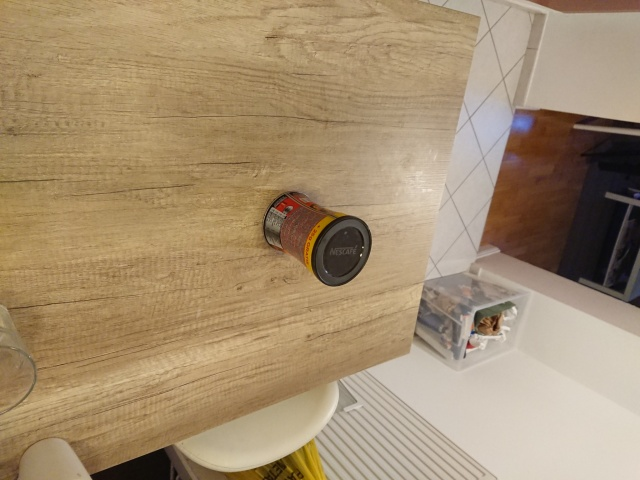Nescafe Classic 225g: (257, 187, 375, 290)
